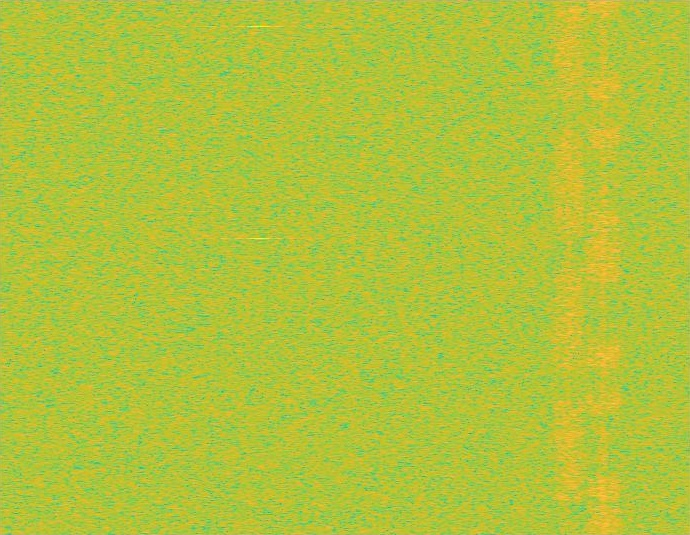5G: (552, 0, 587, 534)
DSSS: (600, 0, 608, 534), (567, 0, 572, 534)
LTE: (587, 0, 621, 534)
Radar: (252, 0, 266, 534)
